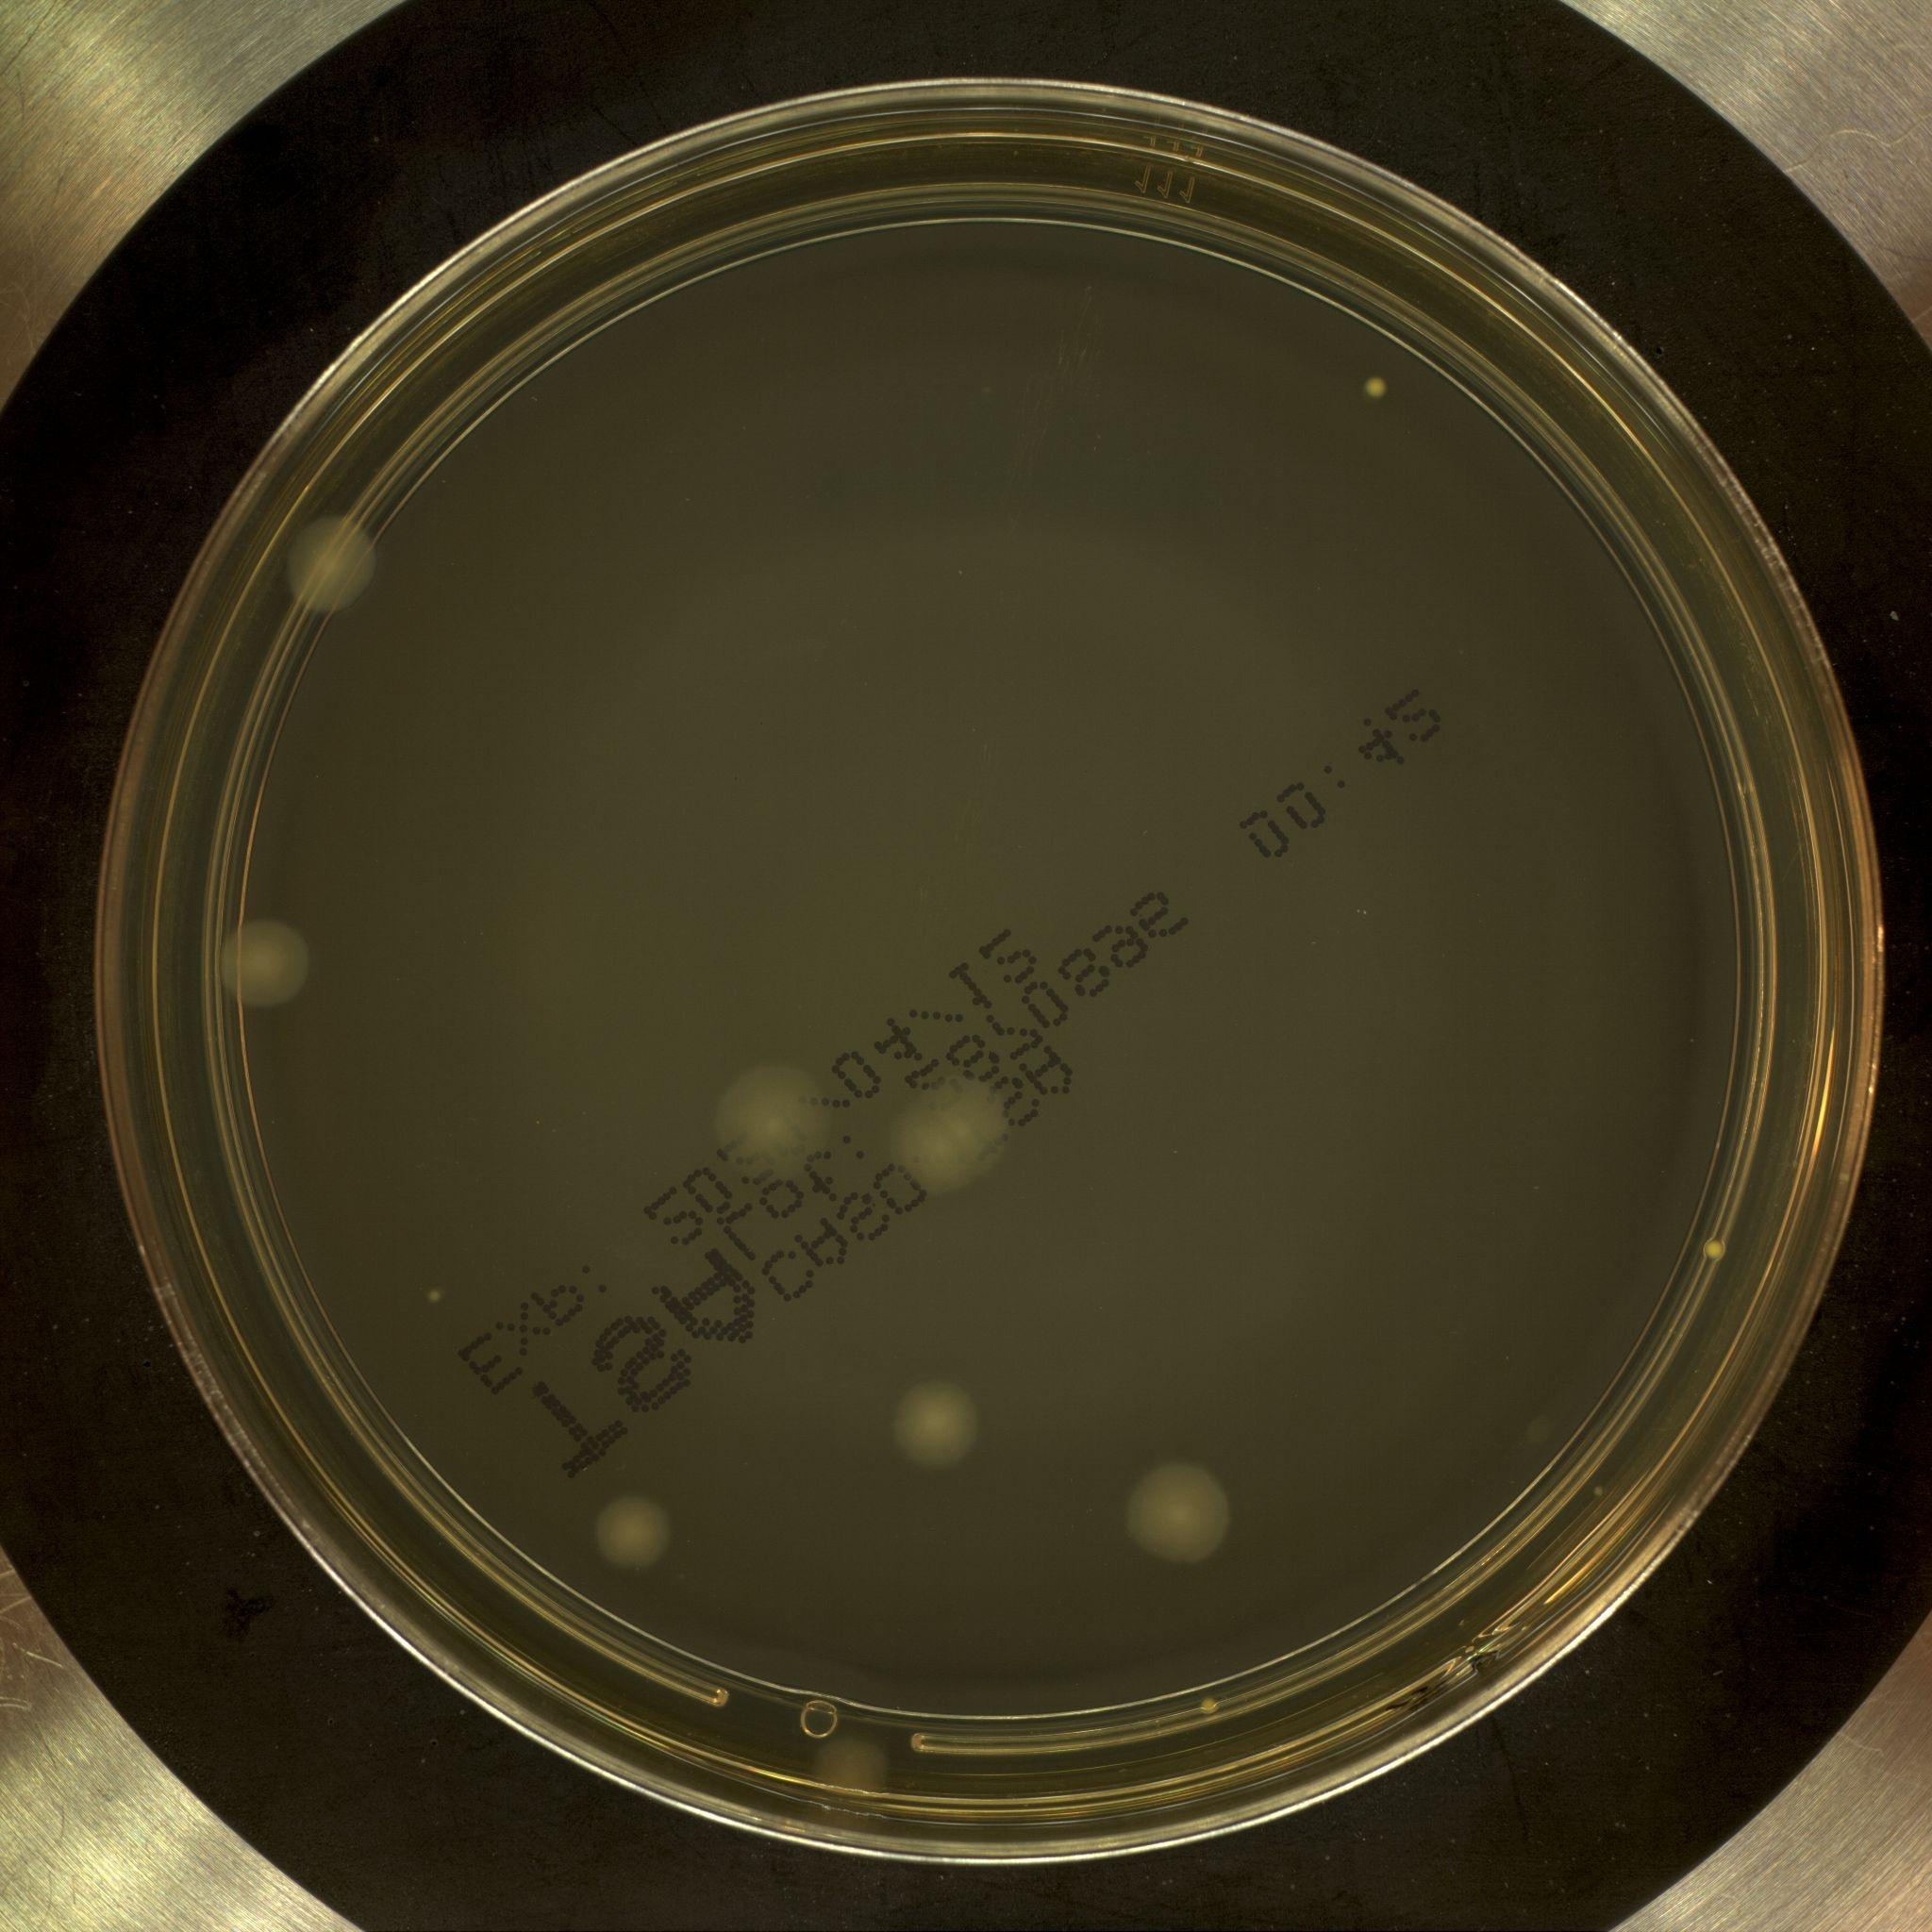e. coli: (711, 1062, 830, 1189), (892, 1074, 1008, 1194), (1131, 1465, 1238, 1568), (890, 1380, 984, 1476), (283, 517, 377, 612), (219, 920, 315, 1010), (579, 1497, 665, 1573), (810, 1729, 902, 1794)
